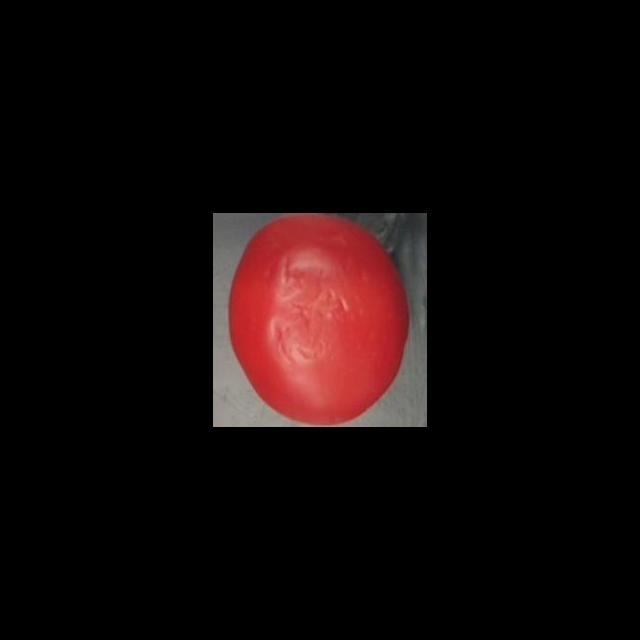tomato: (226, 213, 412, 427)
